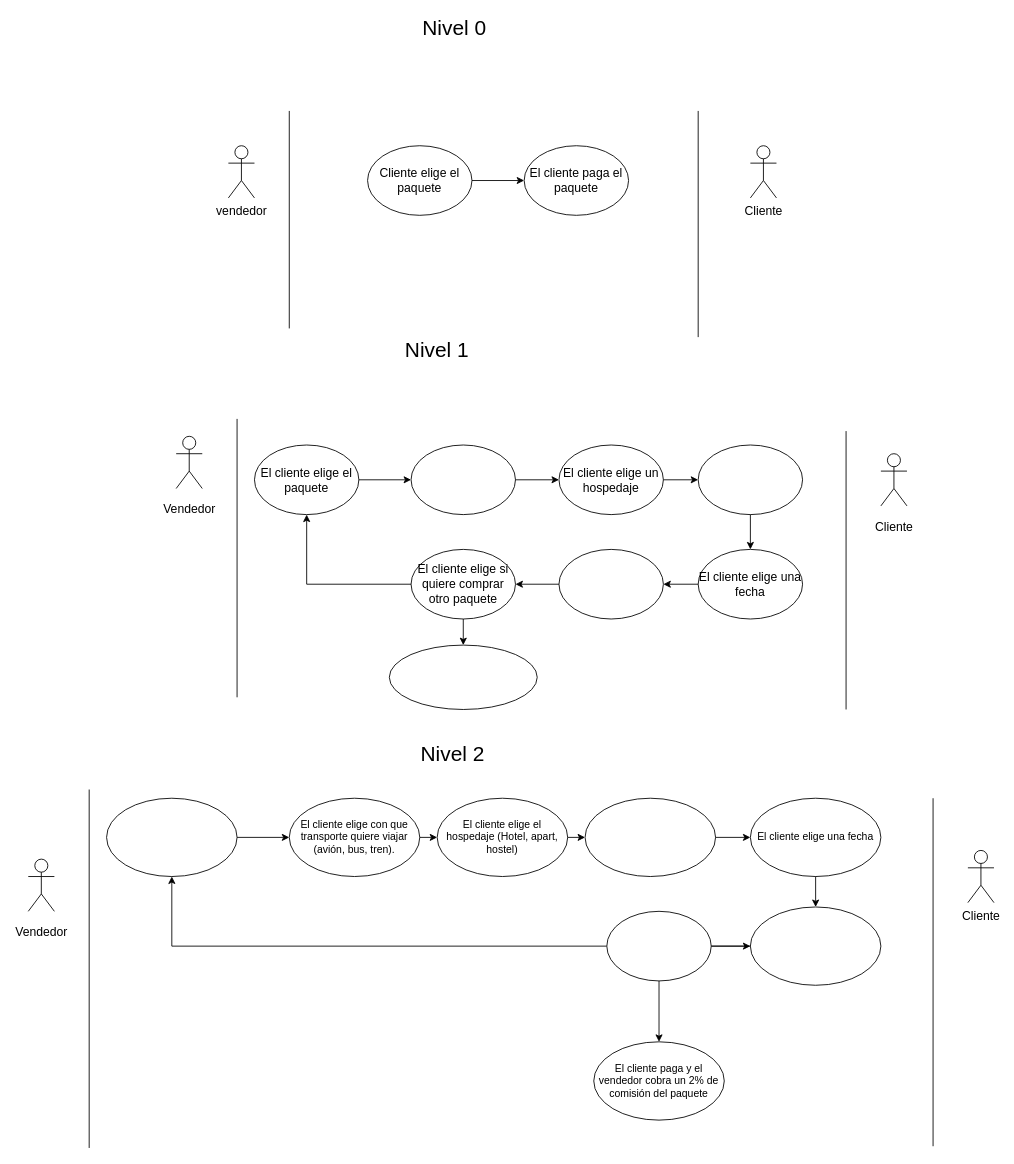
This 1014x1164 diagram has some shape labels left out. Here are the shapes that lost their labels. From the top down, the centre of each, then its label:
point 462,479: El cliente elige un vehiculo
point 750,479: El cliente elige una forma de pago
point 610,584: El cliente recibe una factura
point 462,676: El cliente paga y se le suma al vendedor 2% de la comisión
point 171,837: Se le pregunta al cliente que paquete quiere comprar.
point 650,837: El cliente elige una forma de pago (MP, efectivo, debito)
point 658,945: El cliente elige si quiere comprar otro paquete mas
point 815,945: El vendedor le pasa al cliente una factura con el total a pagar
